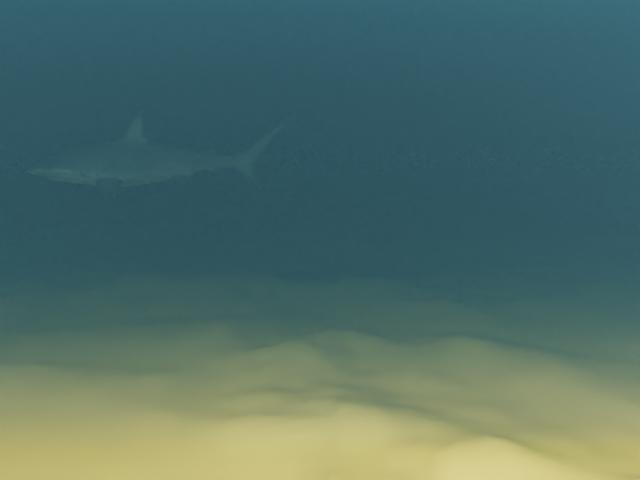Carribean Shark.001: (27, 112, 295, 197)
